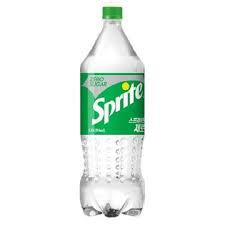sprite_zero: (62, 3, 157, 221)
